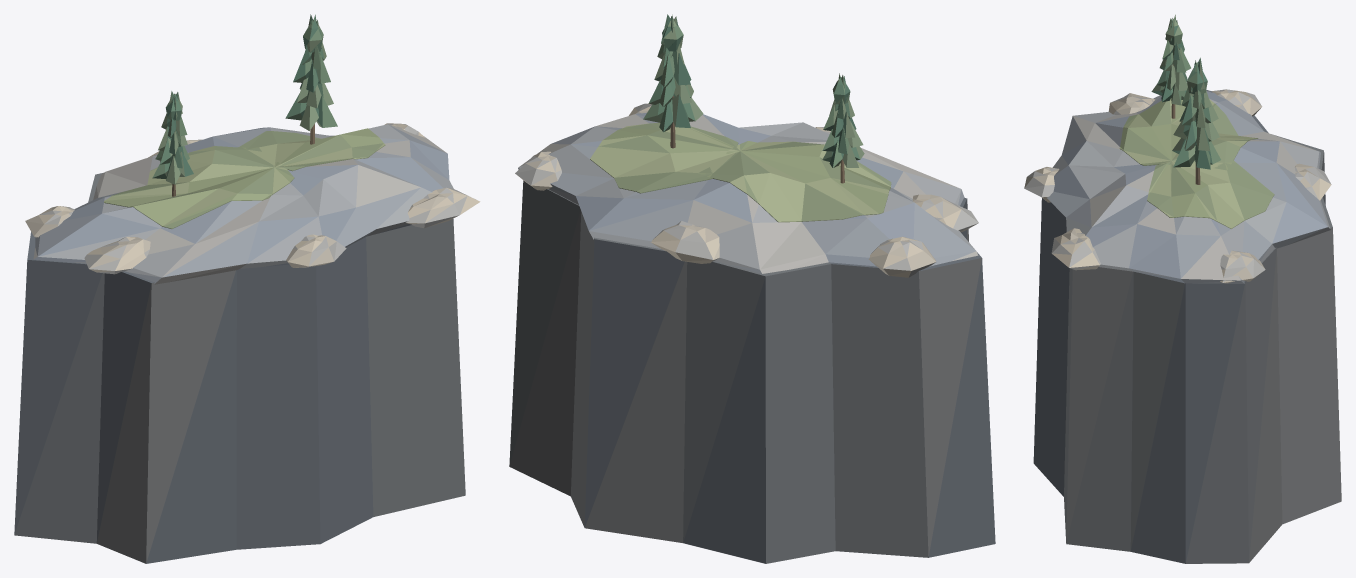
File: island_near_right.glb
The picture shows the model from 3 angles, left to right: view 1: azimuth 30°, elevation 25°; view 2: azimuth 150°, elevation 25°; view 3: azimuth 270°, elevation 25°; orthographic projection. The views are drawn at different scales.
Parts seen in each view (by area): view 1: island_near_right_rockroot, island_near_right_shoulder, island_near_right_grasscap_west, island_near_right_grasscap_east, island_near_right_wetshore_05, island_near_right_wetshore_03, island_near_right_wetshore_04, island_near_right_pine_02_crown_tier_00, island_near_right_wetshore_02, island_near_right_pine_02_crown_tier_02, island_near_right_pine_01_crown_tier_00, island_near_right_pine_02_crown_tier_01; view 2: island_near_right_rockroot, island_near_right_shoulder, island_near_right_grasscap_west, island_near_right_grasscap_east, island_near_right_wetshore_01, island_near_right_wetshore_02, island_near_right_wetshore_03, island_near_right_pine_02_crown_tier_00, island_near_right_wetshore_00, island_near_right_pine_02_crown_tier_02, island_near_right_pine_02_crown_tier_01, island_near_right_pine_01_crown_tier_00; view 3: island_near_right_rockroot, island_near_right_shoulder, island_near_right_grasscap_east, island_near_right_grasscap_west, island_near_right_wetshore_05, island_near_right_wetshore_00, island_near_right_pine_02_crown_tier_00, island_near_right_pine_02_crown_tier_01, island_near_right_wetshore_01, island_near_right_wetshore_04, island_near_right_pine_02_crown_tier_02, island_near_right_wetshore_03 (+5 smaller).
Part boxes in pixels (left/top/right/bottom): island_near_right_rockroot: left=14, top=172, right=465, bottom=563; island_near_right_shoulder: left=33, top=124, right=453, bottom=284; island_near_right_grasscap_west: left=104, top=146, right=294, bottom=228; island_near_right_grasscap_east: left=238, top=128, right=385, bottom=171; island_near_right_wetshore_05: left=405, top=187, right=480, bottom=228; island_near_right_wetshore_03: left=84, top=237, right=150, bottom=274; island_near_right_wetshore_04: left=286, top=234, right=346, bottom=267; island_near_right_pine_02_crown_tier_00: left=285, top=93, right=337, bottom=130; island_near_right_wetshore_02: left=25, top=206, right=74, bottom=237; island_near_right_pine_02_crown_tier_02: left=293, top=53, right=330, bottom=92; island_near_right_pine_01_crown_tier_00: left=152, top=151, right=193, bottom=184; island_near_right_pine_02_crown_tier_01: left=297, top=77, right=333, bottom=108; island_near_right_rockroot: left=509, top=180, right=995, bottom=563; island_near_right_shoulder: left=518, top=112, right=978, bottom=273; island_near_right_grasscap_west: left=698, top=141, right=891, bottom=222; island_near_right_grasscap_east: left=590, top=122, right=738, bottom=193; island_near_right_wetshore_01: left=651, top=221, right=719, bottom=263; island_near_right_wetshore_02: left=868, top=236, right=936, bottom=277; island_near_right_wetshore_03: left=912, top=194, right=978, bottom=232; island_near_right_pine_02_crown_tier_00: left=643, top=94, right=703, bottom=132; island_near_right_wetshore_00: left=515, top=151, right=561, bottom=190; island_near_right_pine_02_crown_tier_02: left=654, top=53, right=691, bottom=87; island_near_right_pine_02_crown_tier_01: left=648, top=77, right=693, bottom=106; island_near_right_pine_01_crown_tier_00: left=822, top=140, right=864, bottom=167; island_near_right_rockroot: left=1033, top=90, right=1341, bottom=563; island_near_right_shoulder: left=1047, top=91, right=1330, bottom=283; island_near_right_grasscap_east: left=1147, top=160, right=1274, bottom=228; island_near_right_grasscap_west: left=1119, top=98, right=1257, bottom=170; island_near_right_wetshore_05: left=1051, top=228, right=1100, bottom=270; island_near_right_wetshore_00: left=1220, top=250, right=1265, bottom=283; island_near_right_pine_02_crown_tier_00: left=1172, top=137, right=1220, bottom=169; island_near_right_pine_02_crown_tier_01: left=1173, top=119, right=1219, bottom=151; island_near_right_wetshore_01: left=1294, top=163, right=1331, bottom=200; island_near_right_wetshore_04: left=1024, top=167, right=1059, bottom=202; island_near_right_pine_02_crown_tier_02: left=1179, top=95, right=1218, bottom=127; island_near_right_wetshore_03: left=1108, top=93, right=1155, bottom=114.
Size of the model in its own units: 40.39 by 40.08 by 25.9.
